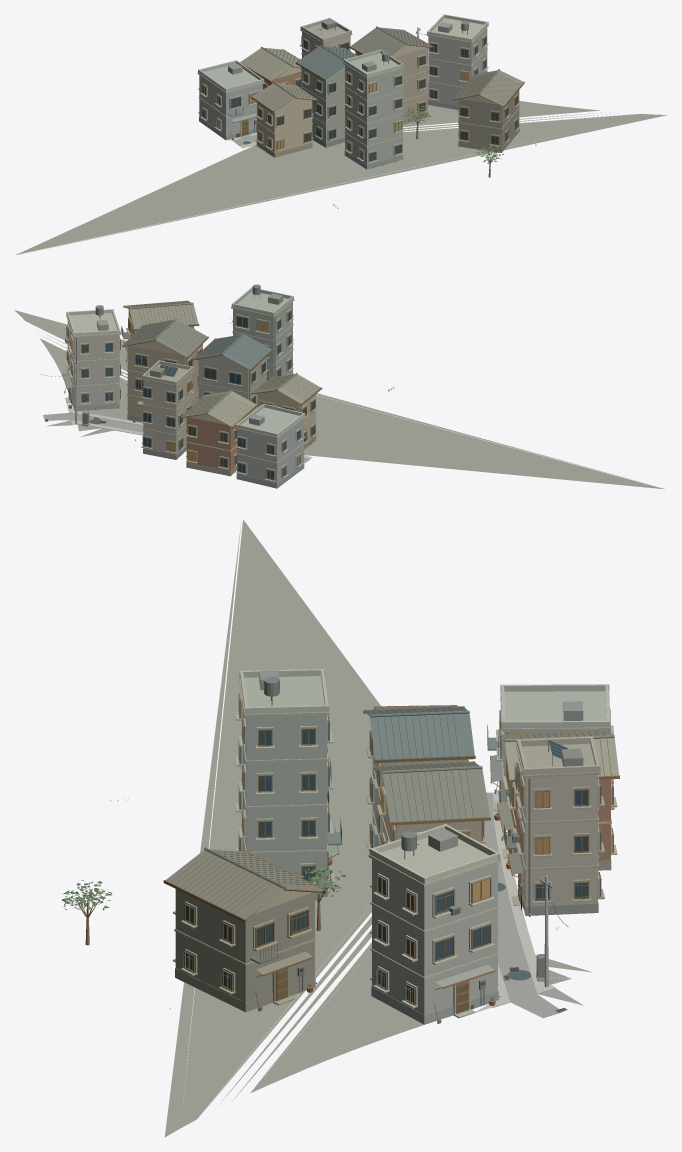
Rendered from street_2_6.glb.
3 views of the same model, one above another, from view 1: azimuth 30°, elevation 25°; view 2: azimuth 150°, elevation 25°; view 3: azimuth 270°, elevation 25° (orthographic). The views are drawn at different scales.
Parts seen in each view (by area): view 1: ground.022, concrete.031, trim.039, plaster.039, roof_metal.039, wood.039, graybrick.038, roof_tile.041, metal.039, glass.039, leaf.025; view 2: ground.022, concrete.031, plaster.039, trim.039, roof_metal.039, wood.039, roof_tile.041, glass.039, metal.039, brick.028, graybrick.038, road.038 (+2 smaller); view 3: ground.022, concrete.031, trim.039, plaster.039, graybrick.038, roof_tile.041, roof_metal.039, wood.039, metal.039, glass.039, road.038, paving.014 (+2 smaller).
Part boxes in pixels (box(x1,y1,x2,y2)): ground.022: box(15, 95, 667, 255); concrete.031: box(199, 27, 487, 164); trim.039: box(197, 18, 519, 163); plaster.039: box(198, 14, 497, 152); roof_metal.039: box(228, 19, 523, 122); wood.039: box(202, 29, 524, 177); graybrick.038: box(199, 90, 519, 169); roof_tile.041: box(261, 26, 499, 97); metal.039: box(201, 21, 520, 159); glass.039: box(202, 36, 517, 160); leaf.025: box(403, 105, 503, 163); ground.022: box(14, 310, 664, 489); concrete.031: box(67, 302, 303, 483); plaster.039: box(66, 287, 315, 454); trim.039: box(65, 291, 317, 482); roof_metal.039: box(62, 293, 320, 426); wood.039: box(65, 300, 322, 480); roof_tile.041: box(123, 302, 297, 413); glass.039: box(67, 311, 314, 479); metal.039: box(45, 284, 319, 476); brick.028: box(186, 412, 251, 470); graybrick.038: box(67, 309, 316, 488); road.038: box(43, 413, 309, 463); ground.022: box(164, 519, 593, 1137); concrete.031: box(241, 709, 607, 1014); trim.039: box(173, 676, 617, 1018); plaster.039: box(239, 669, 610, 914); graybrick.038: box(175, 831, 611, 1024); roof_tile.041: box(204, 707, 614, 889); roof_metal.039: box(166, 670, 619, 987); wood.039: box(75, 693, 619, 1019); metal.039: box(170, 677, 611, 1012); glass.039: box(185, 713, 612, 1004); road.038: box(482, 792, 583, 1018); paving.014: box(472, 789, 555, 1013).
Bounding box in the file's own units: 90.67 × 14.22 × 34.53.
